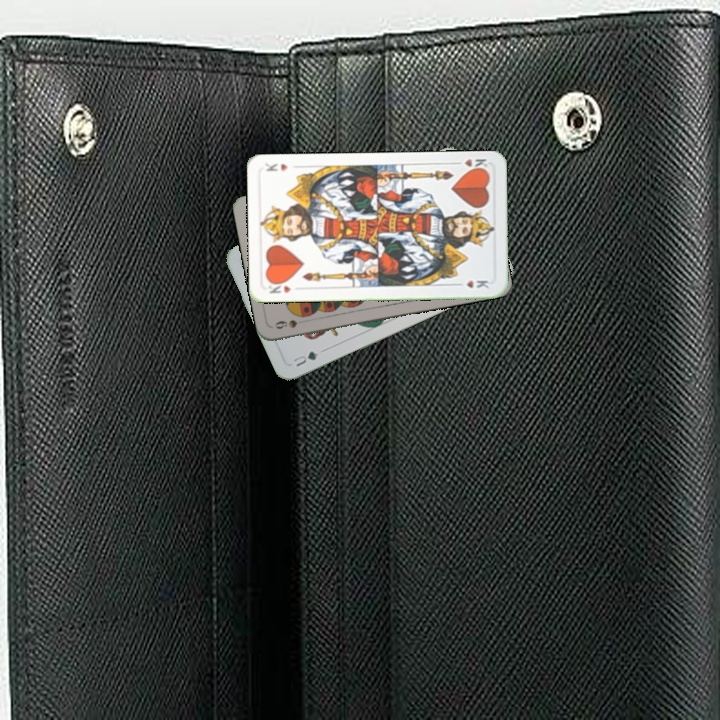GU: (289, 347, 321, 370)
HK: (450, 155, 491, 174), (265, 278, 293, 296)
S9: (270, 316, 308, 332)
